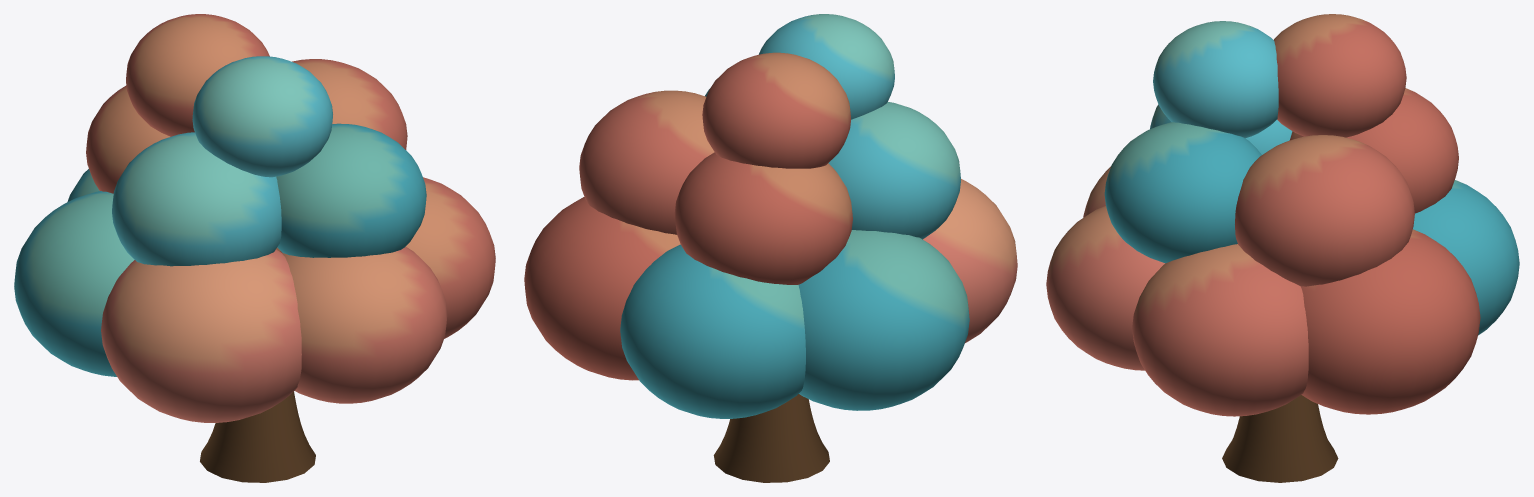
Rendered from pine-tree-7.obj.
The picture shows the model from 3 angles, left to right: view 1: azimuth 30°, elevation 25°; view 2: azimuth 150°, elevation 25°; view 3: azimuth 270°, elevation 25°; orthographic projection.
Visible parts, largest first — view 1: tree; view 2: tree; view 3: tree.
Part boxes in pixels (x1,y1,x2,y2): tree: [14, 14, 495, 482]; tree: [524, 14, 1017, 482]; tree: [1046, 14, 1519, 482].
Size of the model in its own units: 281 by 280 by 285.
